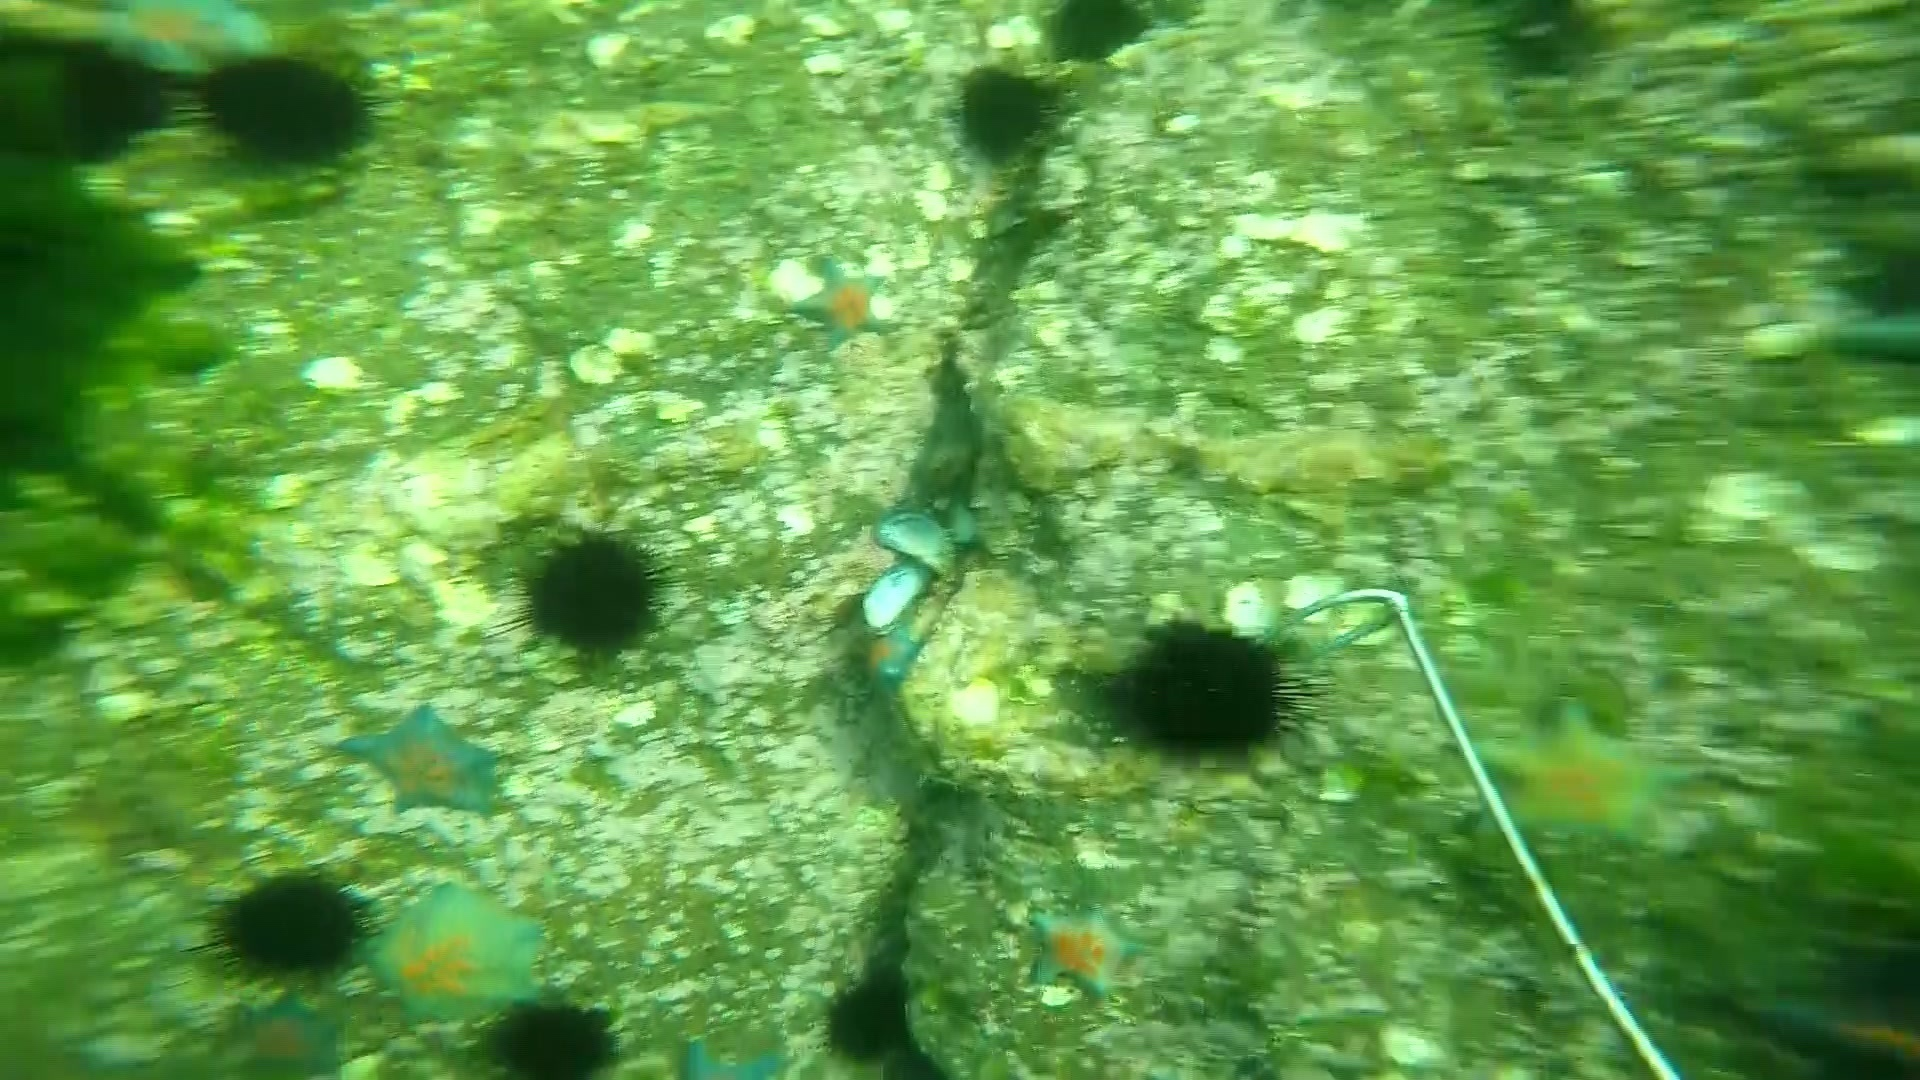echinus: (1102, 615, 1325, 771), (183, 44, 388, 177), (502, 524, 679, 665), (3, 32, 173, 169), (200, 865, 378, 984), (947, 61, 1065, 166), (477, 993, 626, 1075), (814, 963, 922, 1069), (1036, 1, 1156, 70)
starfish: (1476, 688, 1716, 865), (360, 877, 553, 1033), (336, 698, 508, 823), (1745, 963, 1917, 1075), (84, 1, 280, 87), (1018, 897, 1160, 1007), (789, 249, 899, 351), (225, 990, 351, 1076), (682, 1015, 795, 1073), (855, 617, 928, 698)
